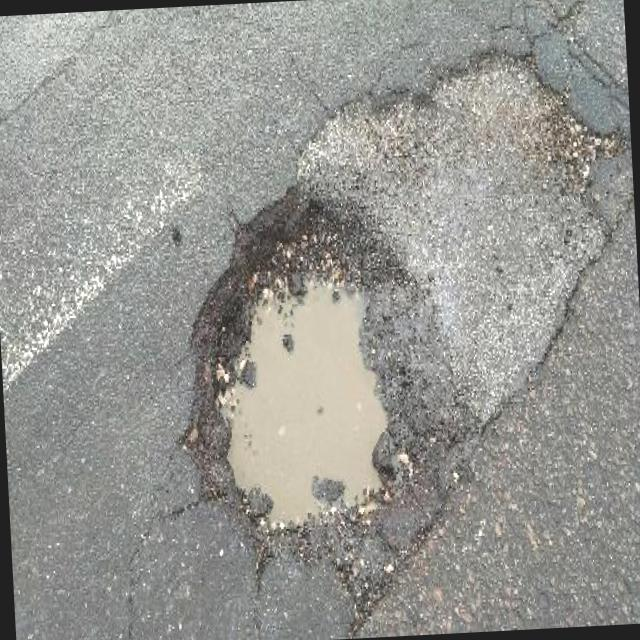Lubang: (185, 190, 413, 595)
